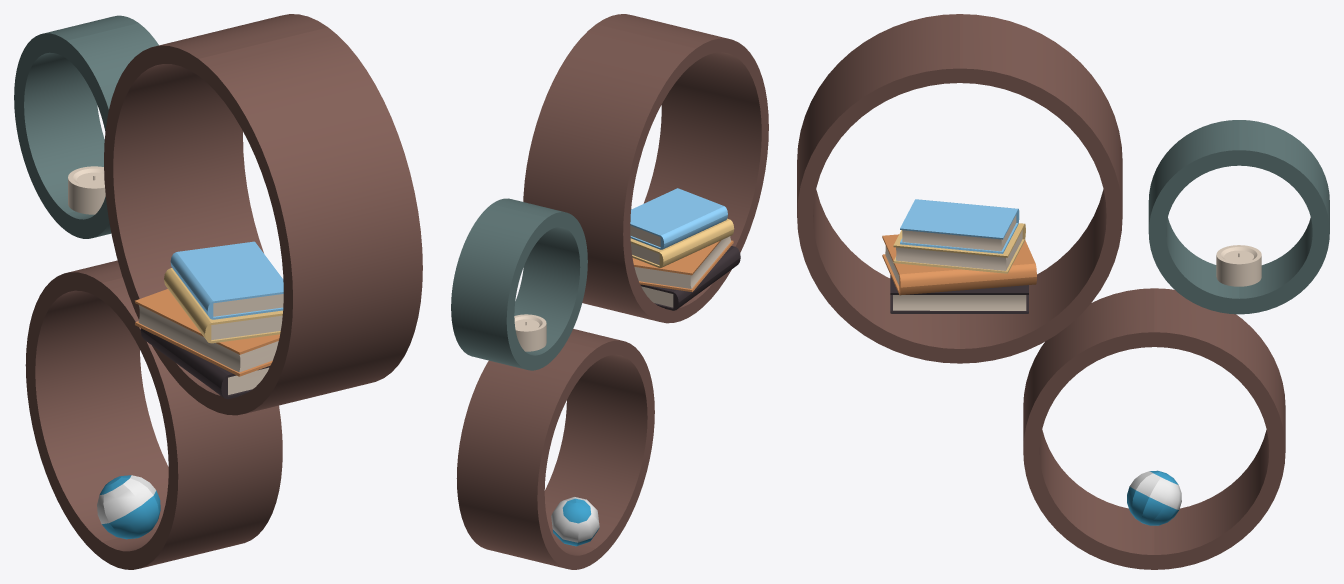
The model's file is Furn1_bookcase_right_color3_joined.fbx.
The picture shows the model from 3 angles, left to right: view 1: azimuth 30°, elevation 25°; view 2: azimuth 150°, elevation 25°; view 3: azimuth 270°, elevation 25°; orthographic projection. The views are drawn at different scales.
Visible parts, largest first — view 1: Куб.030; view 2: Куб.030; view 3: Куб.030.
Boxes of the visible parts, x1,y1,x2,y2 form: Куб.030: [14, 14, 422, 569]; Куб.030: [451, 14, 768, 569]; Куб.030: [797, 14, 1329, 569].
Size of the model in its own units: 76.83 by 270 by 258.
